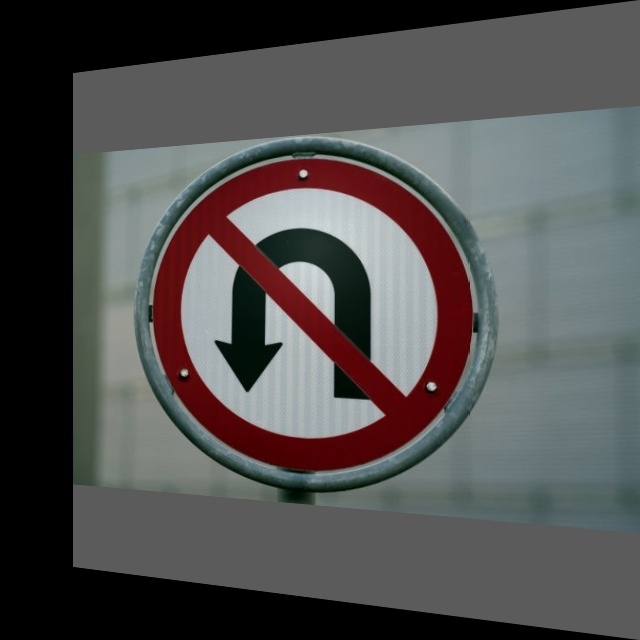U_Turn_Prohibited: (135, 118, 482, 499)
